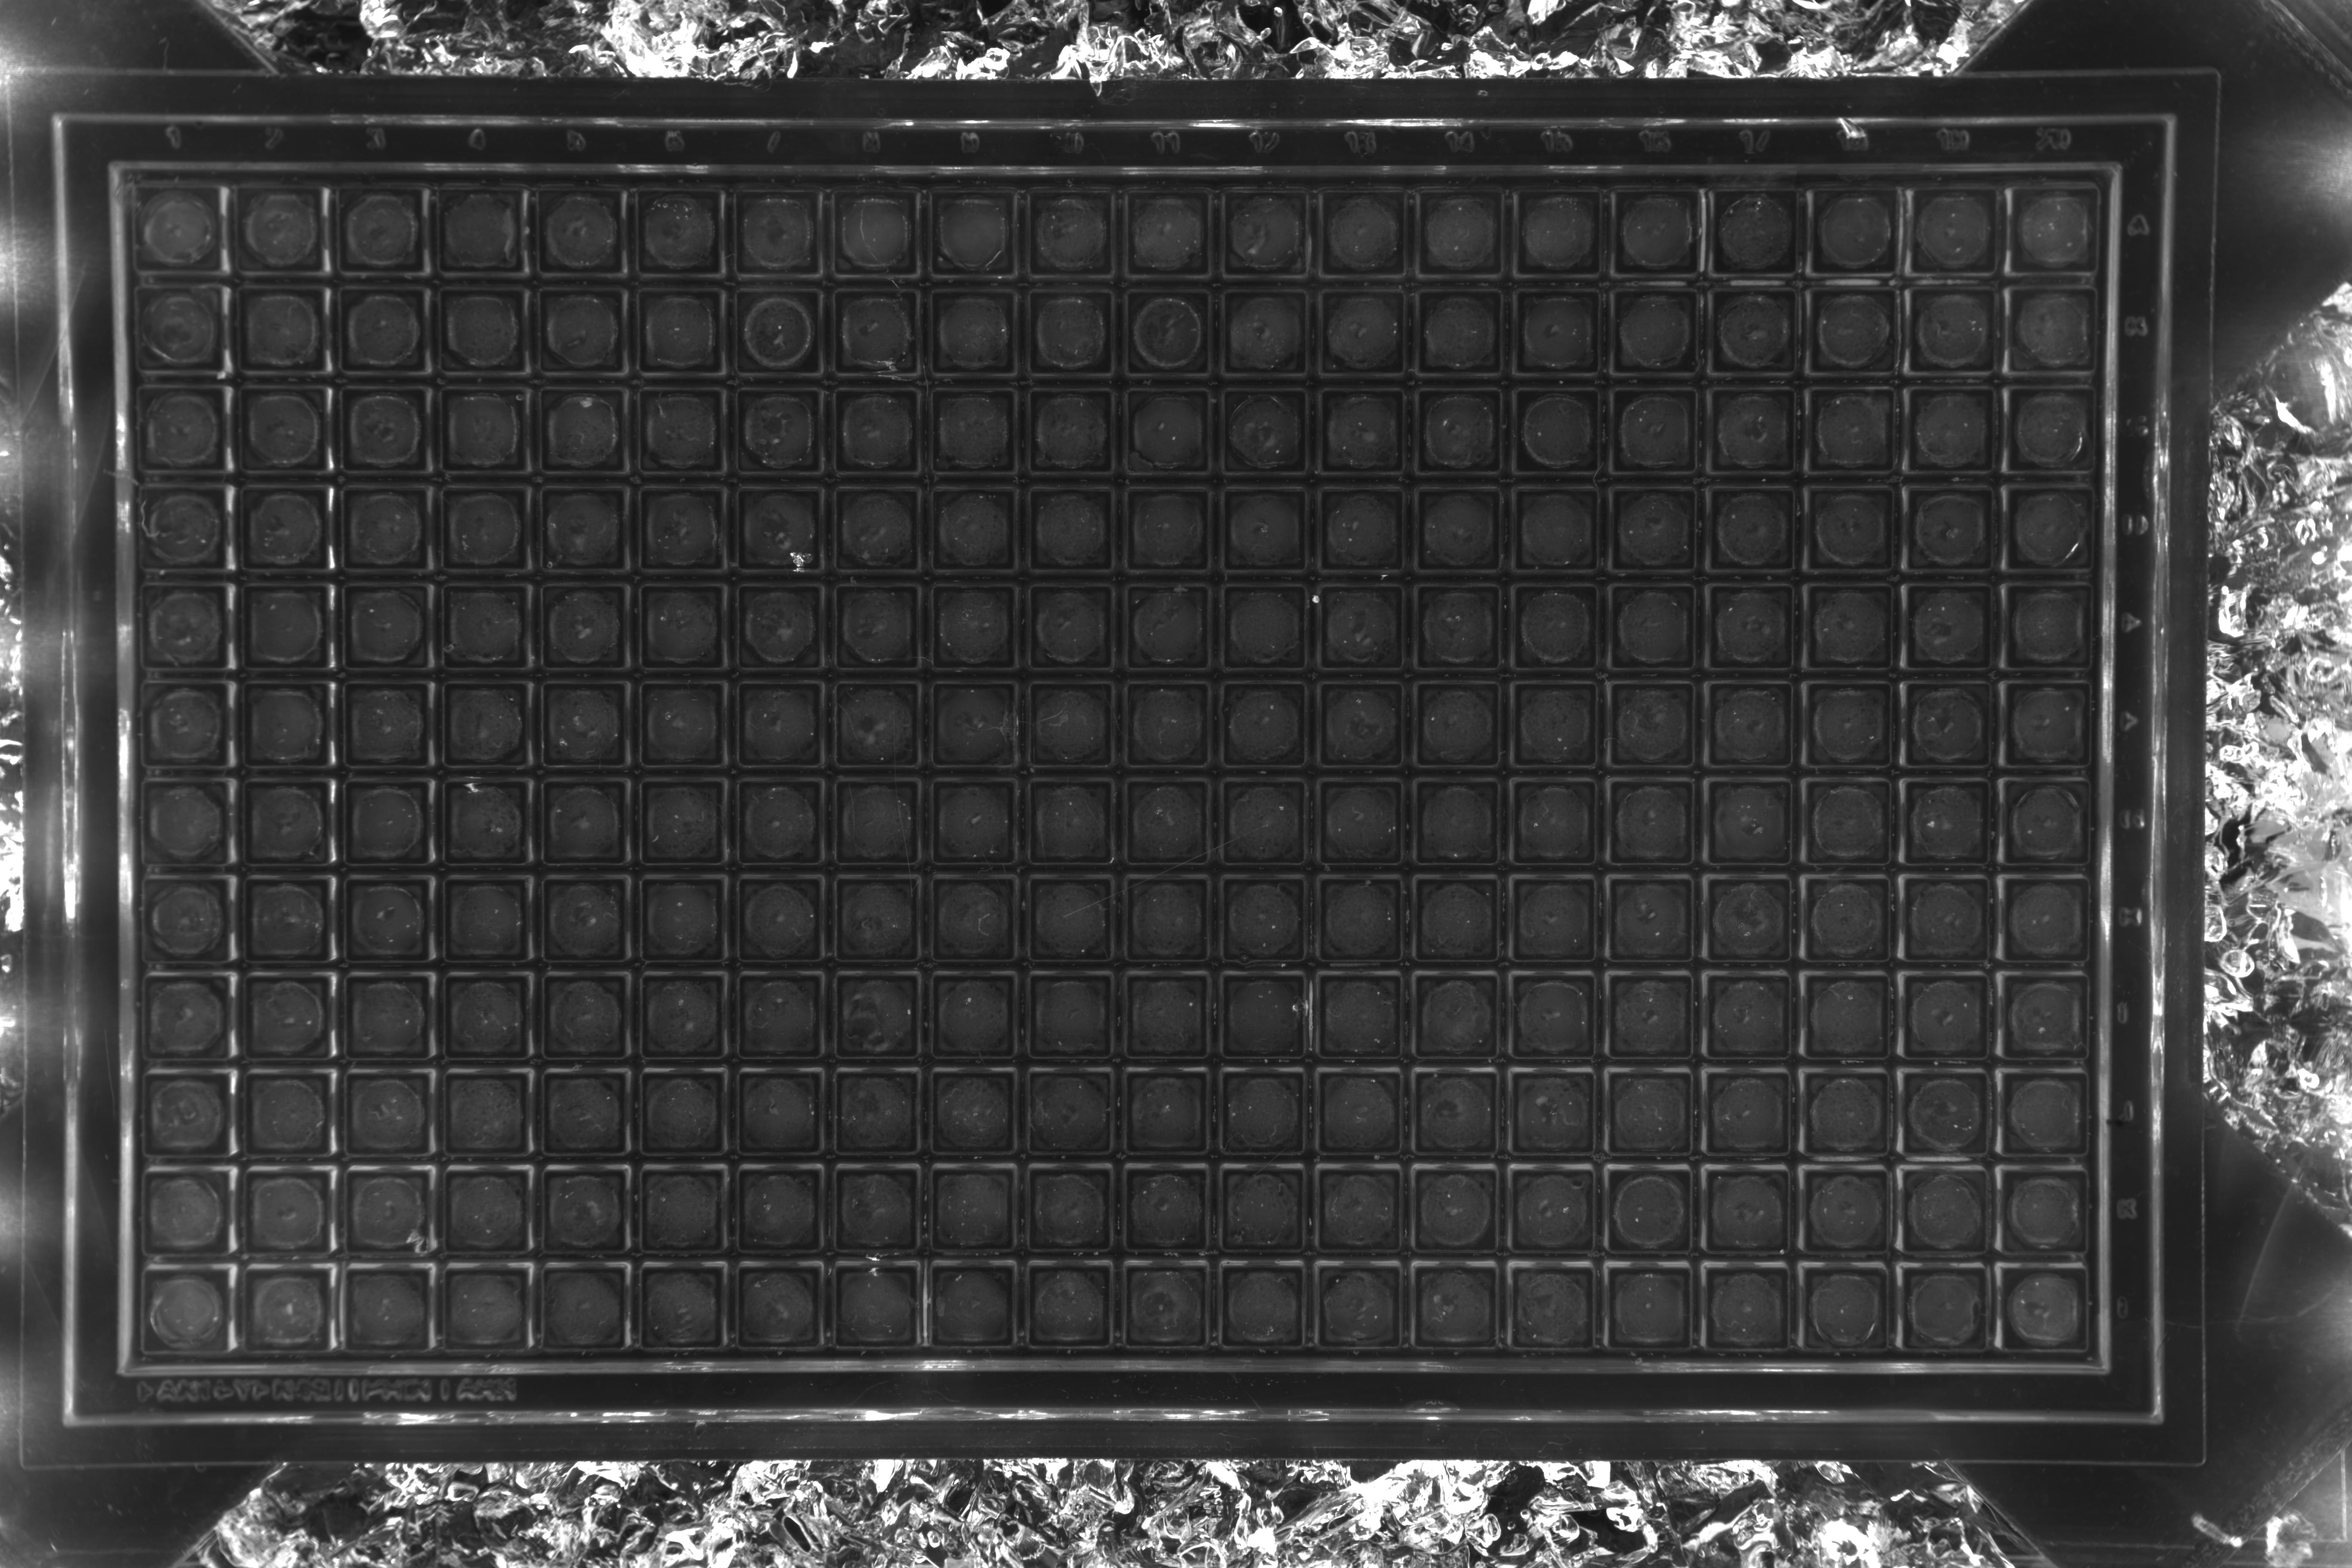WM_well: (399, 828, 488, 915), (786, 436, 875, 523), (192, 236, 280, 324), (205, 926, 292, 1013), (294, 338, 381, 425), (303, 1120, 390, 1207), (392, 338, 479, 425), (399, 731, 486, 819), (401, 926, 488, 1013), (691, 632, 779, 719), (887, 1211, 975, 1298), (983, 630, 1071, 717), (983, 824, 1071, 912), (1078, 142, 1165, 229), (1080, 1017, 1167, 1104), (1176, 822, 1263, 910), (1370, 822, 1458, 910), (1372, 336, 1459, 423), (1465, 1211, 1552, 1298), (1466, 630, 1554, 717), (1470, 236, 1557, 324), (1564, 628, 1652, 716), (1662, 628, 1750, 716), (1664, 530, 1752, 618)
